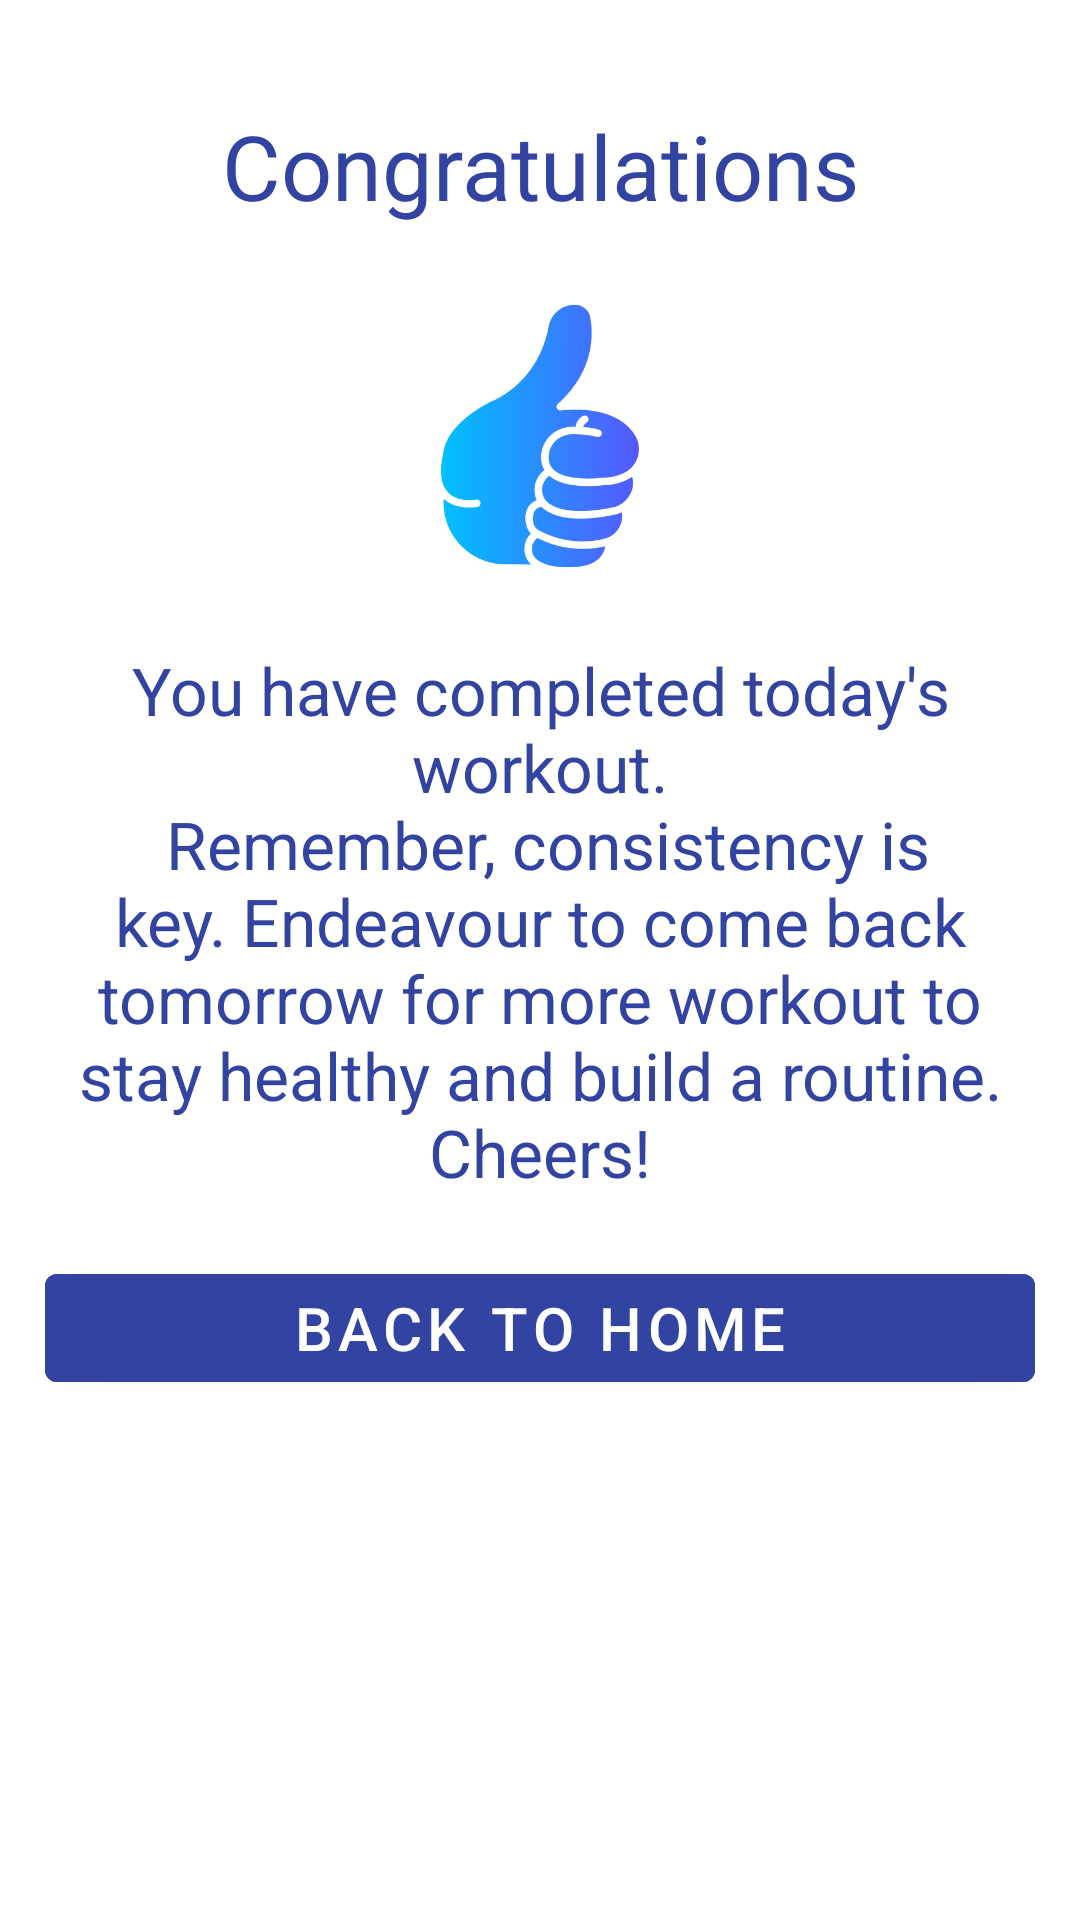

Point at icon controls on the screen. Image size 1080px x 1920px, points as (x=x, y=y).
better: (x=540, y=436)
